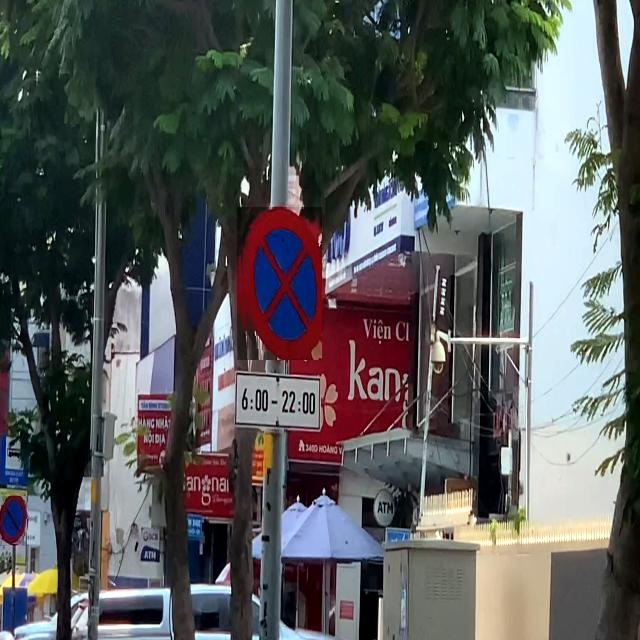bien_cam: (237, 207, 322, 360), (0, 496, 29, 546)
